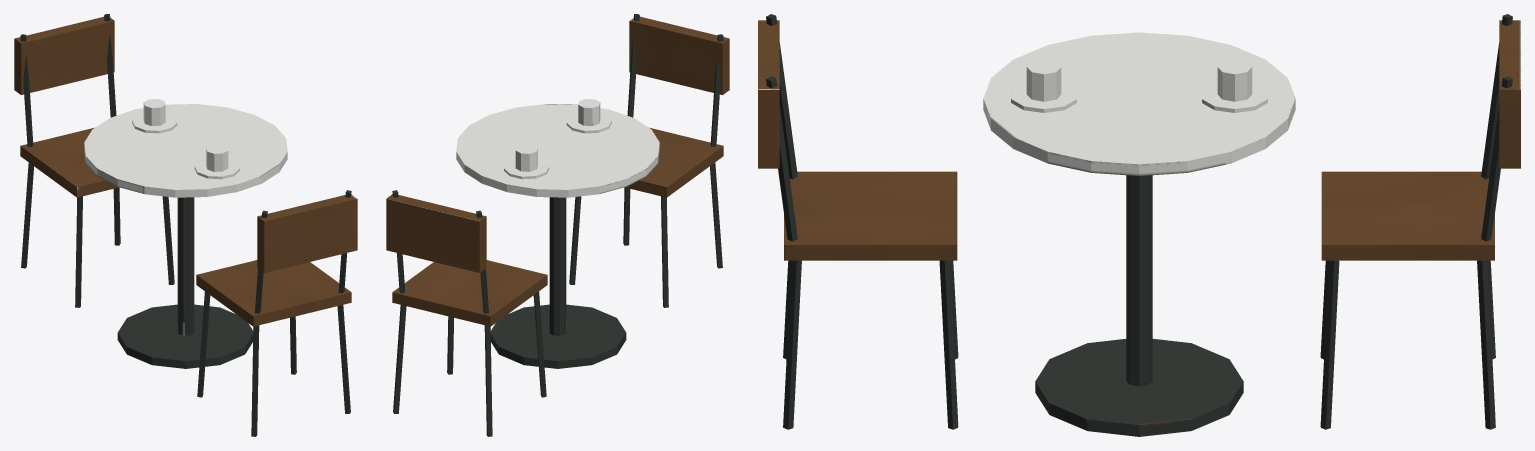
The model's file is stolek_kavarna_bbbc6626.glb.
3 views of the same model, side by side, from view 1: azimuth 30°, elevation 25°; view 2: azimuth 150°, elevation 25°; view 3: azimuth 270°, elevation 25° (orthographic). The views are drawn at different scales.
Parts seen in each view (by area): view 1: dum; view 2: dum; view 3: dum.
Part boxes in pixels (bbox=[...]): dum: bbox=[14, 14, 357, 436]; dum: bbox=[386, 14, 729, 436]; dum: bbox=[758, 14, 1520, 436].
Bounding box in the file's own units: 0.7182 × 0.8797 × 1.76.
Materials: 1 (1 with a texture image).
